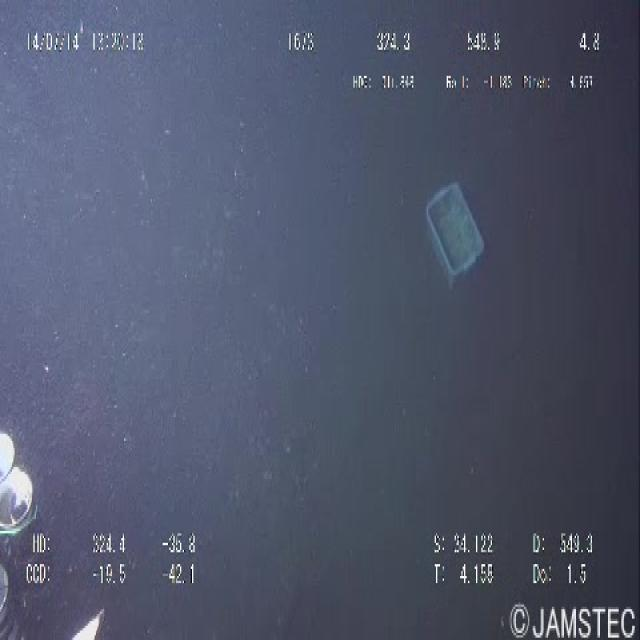plastic: (411, 147, 492, 303)
